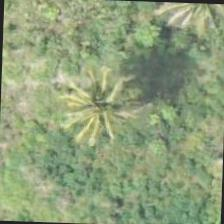Kelapa_Sawit: (53, 57, 146, 150)
